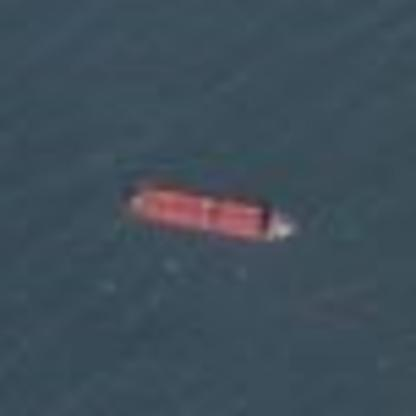ship: (105, 176, 304, 249)
